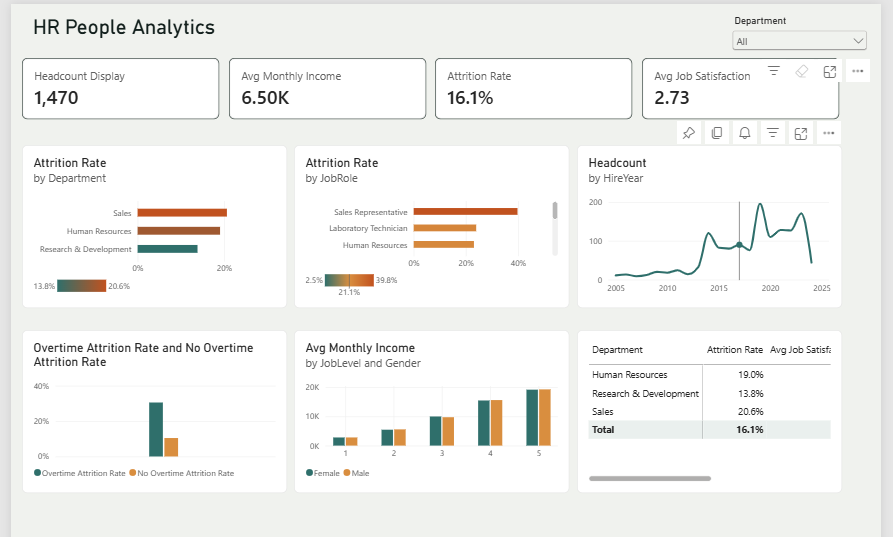

Layout of this report page (visuals, bound fields, positions):
{"tool":"powerbi","page":{"name":"Page 1","canvas":[1280,900],"ordinal":0},"visuals":[{"type":"cardVisual","fields":{"Data":["hr_clean.Headcount Display"]},"box":[16,80,290,90],"z":0},{"type":"cardVisual","fields":{"Data":["hr_clean.Attrition Rate"]},"box":[624,80,290,90],"z":1000},{"type":"cardVisual","fields":{"Data":["hr_clean.Avg Monthly Income"]},"box":[320,80,290,90],"z":2000},{"type":"cardVisual","fields":{"Data":["hr_clean.Avg Job Satisfaction"]},"box":[928,80,290,90],"z":3000},{"type":"clusteredBarChart","fields":{"Category":["hr_clean.JobRole"],"Y":["hr_clean.Attrition Rate"]},"box":[416,208,405,240],"z":4000},{"type":"clusteredColumnChart","fields":{"Category":["hr_clean.JobLevel"],"Series":["hr_clean.Gender"],"Y":["hr_clean.Avg Monthly Income"]},"box":[416,480,405,240],"z":5000},{"type":"clusteredColumnChart","fields":{"Y":["hr_clean.Overtime Attrition Rate","hr_clean.No Overtime Attrition Rate"]},"box":[16,480,390,240],"z":6000},{"type":"pivotTable","fields":{"Rows":["hr_clean.Department"],"Values":["hr_clean.Attrition Rate","hr_clean.Avg Job Satisfaction","hr_clean.Avg Monthly Income"]},"box":[832,480,390,240],"z":7000},{"type":"slicer","fields":{"Values":["hr_clean.Department"]},"box":[1056,16,208,64],"z":8000},{"type":"textbox","title":"HR People Analytics","box":[32,16,608,48],"z":9000},{"type":"clusteredBarChart","fields":{"Category":["hr_clean.Department"],"Y":["hr_clean.Attrition Rate"]},"box":[16,208,390,240],"z":10000},{"type":"lineChart","fields":{"Category":["hr_clean.HireYear"],"Y":["hr_clean.Headcount"]},"box":[832,208,390,240],"z":11000}]}

Visuals, with their boxes on the page's 1280x900 design canvas (x1, y1, x2, y2). These are canvas units, not pixel positions in the 893x537 screenshot, which may show the page scaled, cropped or inside an application window:
cardVisual - hr_clean.Headcount Display: [16, 80, 306, 170]
cardVisual - hr_clean.Attrition Rate: [624, 80, 914, 170]
cardVisual - hr_clean.Avg Monthly Income: [320, 80, 610, 170]
cardVisual - hr_clean.Avg Job Satisfaction: [928, 80, 1218, 170]
clusteredBarChart - hr_clean.JobRole x hr_clean.Attrition Rate: [416, 208, 821, 448]
clusteredColumnChart - hr_clean.JobLevel x hr_clean.Gender: [416, 480, 821, 720]
clusteredColumnChart - hr_clean.Overtime Attrition Rate x hr_clean.No Overtime Attrition Rate: [16, 480, 406, 720]
pivotTable - hr_clean.Department x hr_clean.Attrition Rate: [832, 480, 1222, 720]
slicer - hr_clean.Department: [1056, 16, 1264, 80]
"HR People Analytics" textbox: [32, 16, 640, 64]
clusteredBarChart - hr_clean.Department x hr_clean.Attrition Rate: [16, 208, 406, 448]
lineChart - hr_clean.HireYear x hr_clean.Headcount: [832, 208, 1222, 448]
